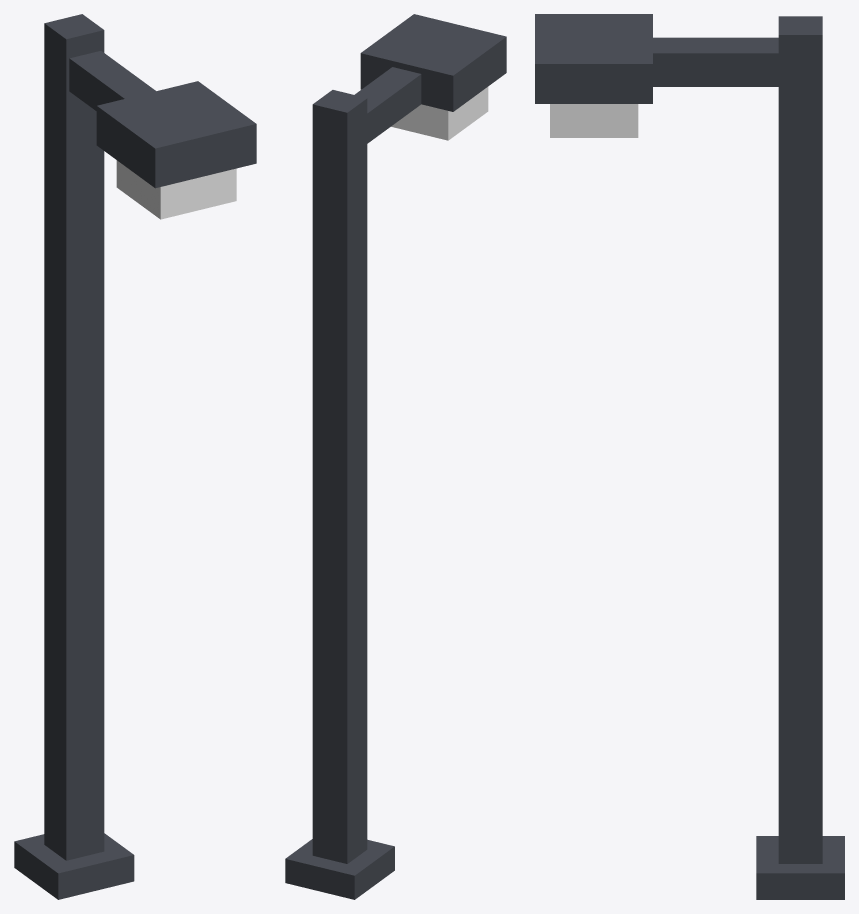
The model's file is dec_streetlamp.glb.
3 renders of one model, left to right at view 1: azimuth 30°, elevation 25°; view 2: azimuth 150°, elevation 25°; view 3: azimuth 270°, elevation 25°, orthographic. The views are drawn at different scales.
Visible parts, largest first — view 1: dec_streetlamp_mesh; view 2: dec_streetlamp_mesh; view 3: dec_streetlamp_mesh.
Part boxes in pixels (<box>): dec_streetlamp_mesh: <box>14,14,256,899</box>; dec_streetlamp_mesh: <box>285,14,506,899</box>; dec_streetlamp_mesh: <box>535,14,844,899</box>.
Size of the model in its own units: 0.08 by 0.64 by 0.21.
Materials: 2 (1 with a texture image).
